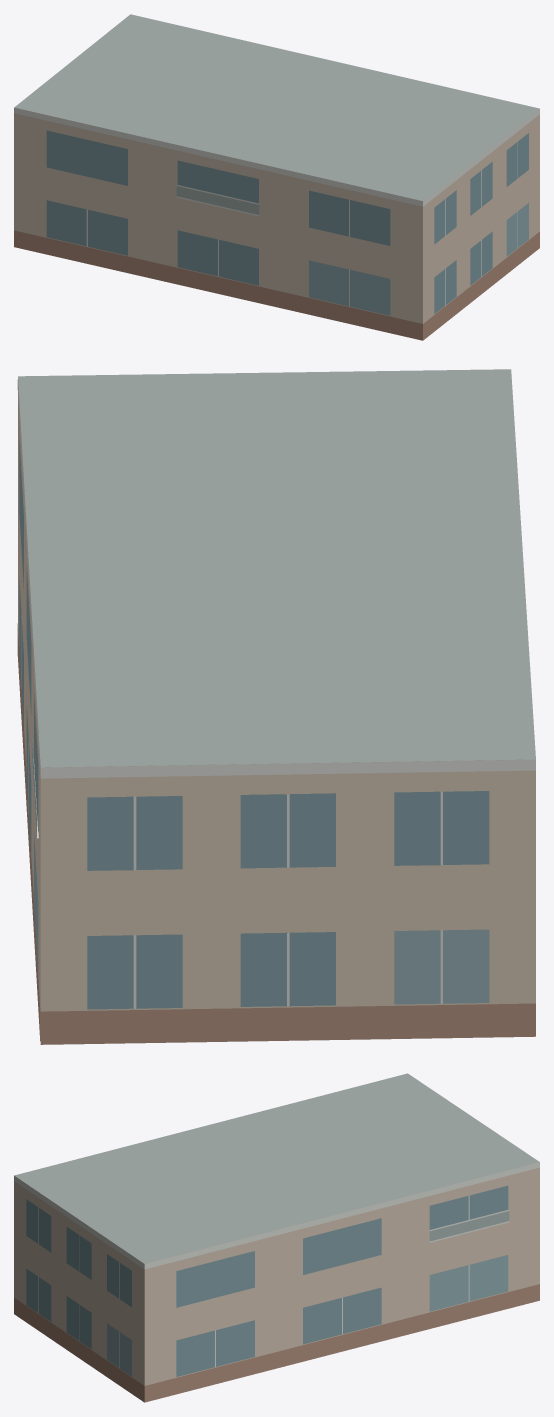
File: survey-upis-32896517.glb
3 renders of one model, top to bottom at view 1: azimuth 30°, elevation 25°; view 2: azimuth 150°, elevation 25°; view 3: azimuth 270°, elevation 25°, orthographic. The views are drawn at different scales.
Visible parts, largest first — view 1: survey-upis-32896517.tmp; view 2: survey-upis-32896517.tmp; view 3: survey-upis-32896517.tmp.
Boxes of the visible parts, bbox=[...] form: survey-upis-32896517.tmp: bbox=[14, 14, 539, 340]; survey-upis-32896517.tmp: bbox=[17, 369, 535, 1044]; survey-upis-32896517.tmp: bbox=[14, 1073, 539, 1402].
Size of the model in its own units: 18 by 6.1 by 20.98.
